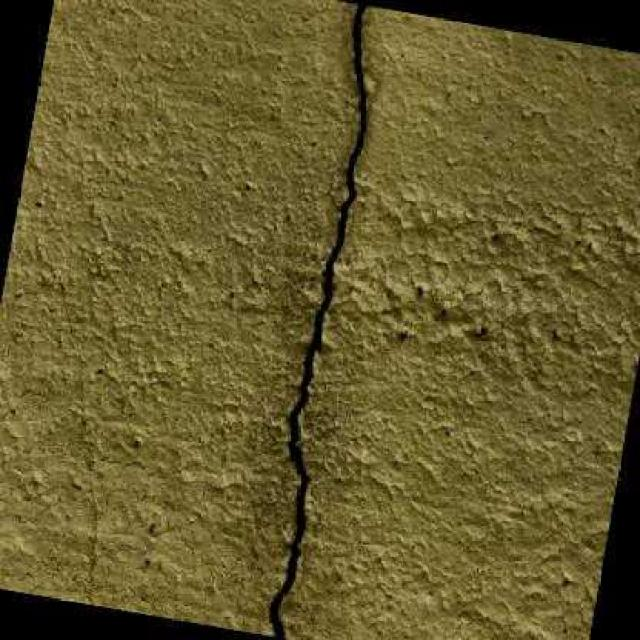D00: (267, 2, 365, 638)
